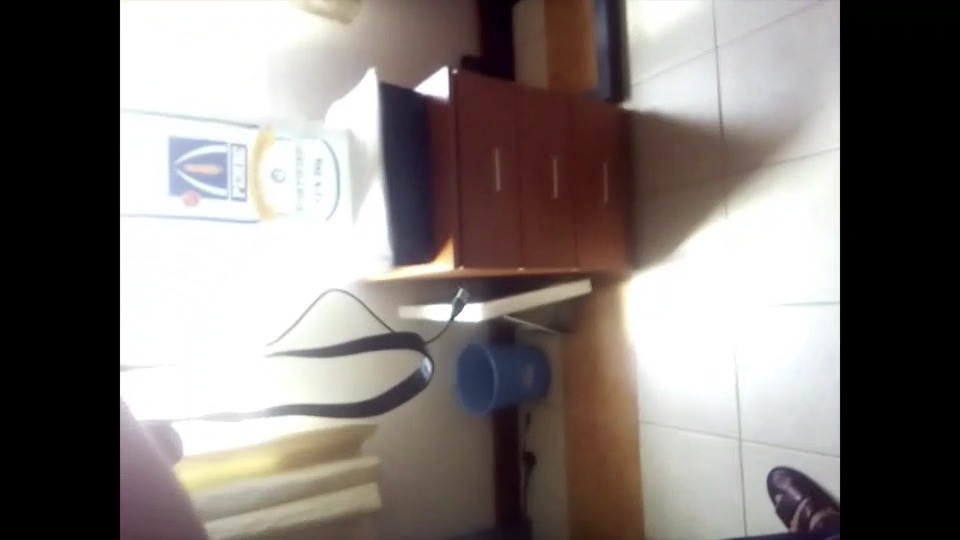wheat_flour_blue_label: (128, 114, 353, 243)
